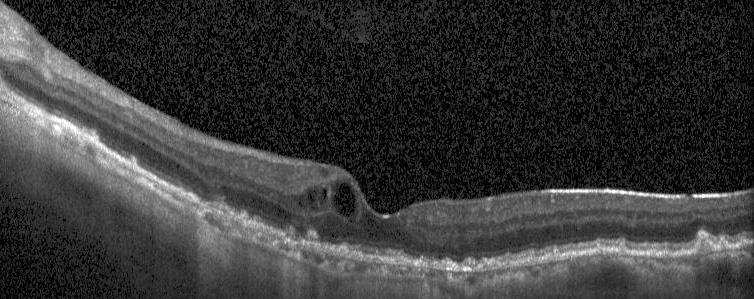intraretinal_cyst: (333, 181, 356, 218), (306, 192, 314, 202), (323, 187, 327, 199)
subretinal_fluid: (698, 238, 715, 254), (719, 242, 728, 250)
subretinal_hyperreflective_material: (200, 201, 495, 270)
